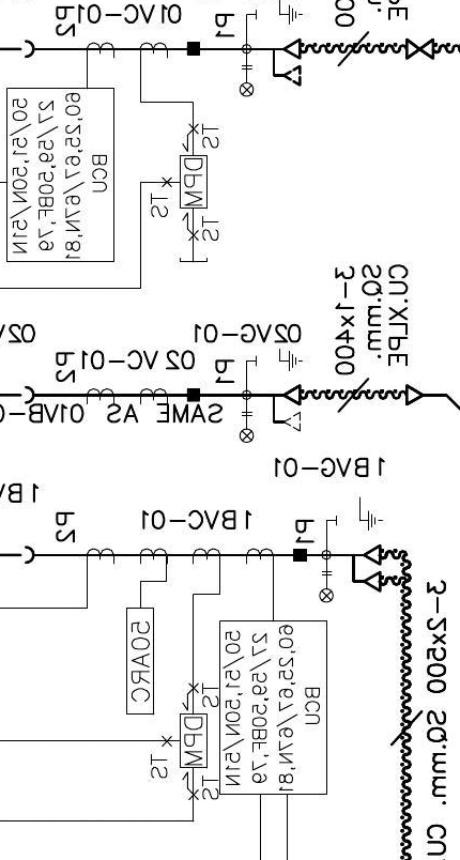22_gs: (334, 496, 383, 532), (254, 347, 303, 373)
22_ll: (319, 570, 335, 604), (239, 64, 255, 97), (239, 411, 255, 444)
DPM: (179, 712, 209, 769), (179, 153, 209, 210)
terminator_double: (351, 543, 382, 593)
terminator_single: (404, 383, 424, 407)
terminator_splicing_kits: (405, 38, 435, 60)
terminator_w_future: (271, 383, 303, 434), (271, 37, 302, 87)
